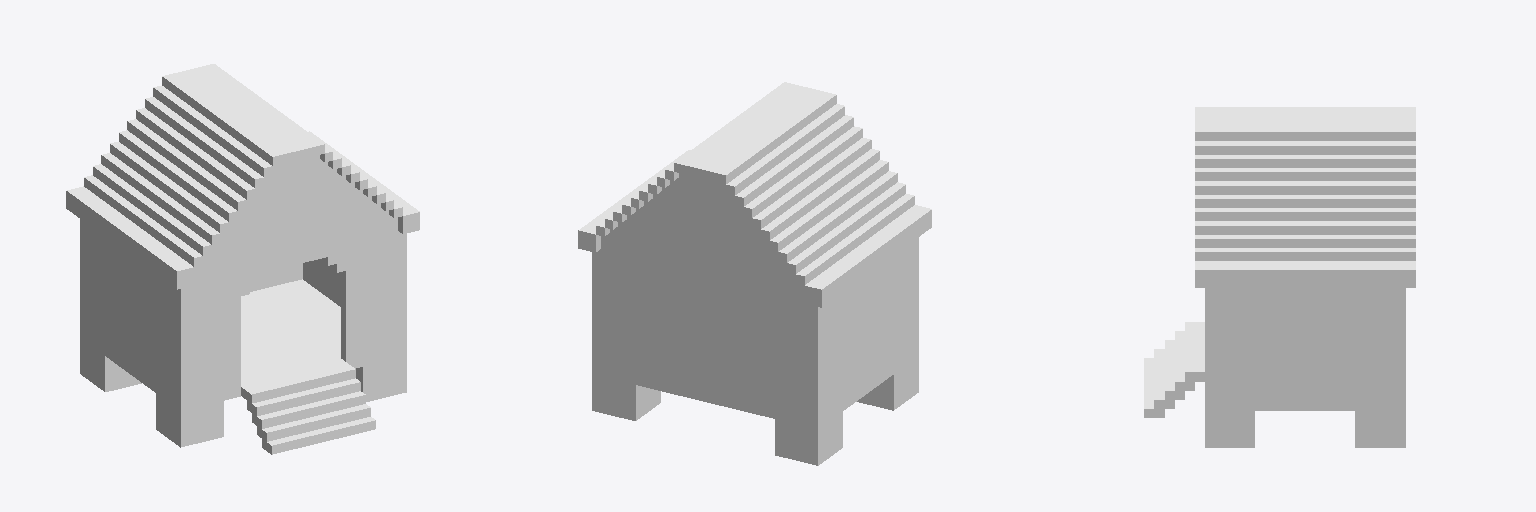
File: testcoop.obj
3 views of the same model, side by side, from view 1: azimuth 30°, elevation 25°; view 2: azimuth 150°, elevation 25°; view 3: azimuth 270°, elevation 25° (orthographic).
Parts seen in each view (by area): view 1: object 1; view 2: object 1; view 3: object 1.
Part boxes in pixels (x1,y1,x2,y2): object 1: (66,64,419,454); object 1: (578,82,931,465); object 1: (1144,107,1415,447).
Bounding box in the file's own units: 2.8 × 3 × 2.7.